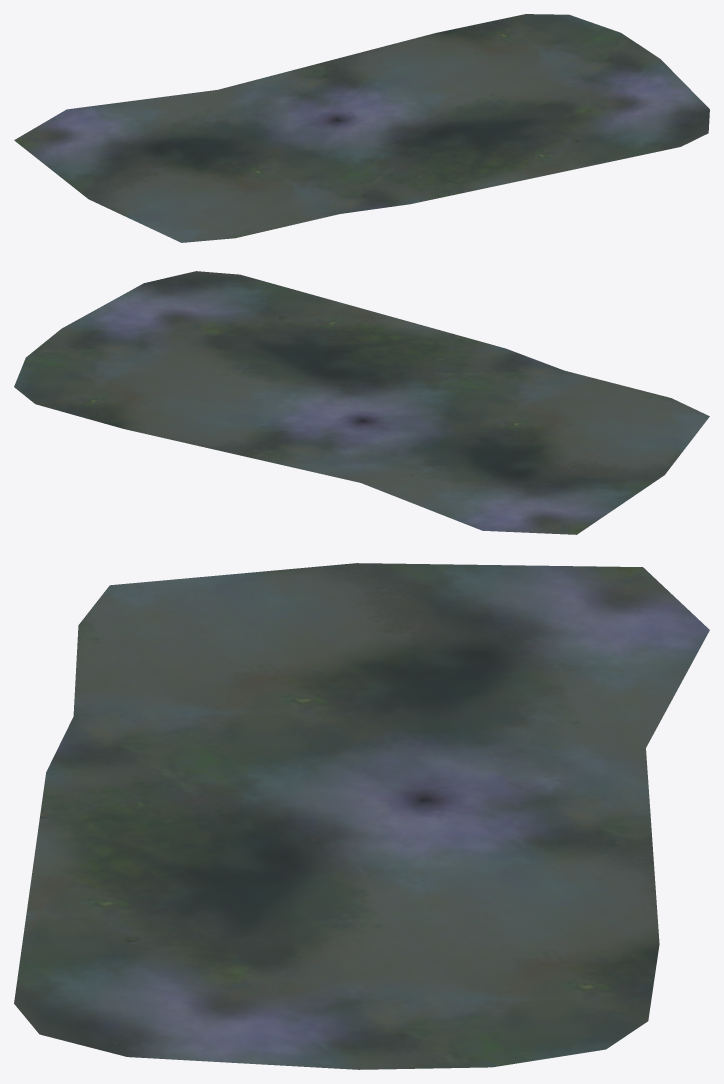
The model's file is CZPlat_5_Top.gltf.
3 renders of one model, top to bottom at view 1: azimuth 30°, elevation 25°; view 2: azimuth 150°, elevation 25°; view 3: azimuth 270°, elevation 25°, orthographic. The views are drawn at different scales.
Parts seen in each view (by area): view 1: CZPlat_5_Top; view 2: CZPlat_5_Top; view 3: CZPlat_5_Top.
Part boxes in pixels (<box>): CZPlat_5_Top: <box>14,14,709,242</box>; CZPlat_5_Top: <box>14,271,709,534</box>; CZPlat_5_Top: <box>14,563,709,1069</box>.
Size of the model in its own units: 41.46 by 0 by 24.07.
1 material, 1 textured.
